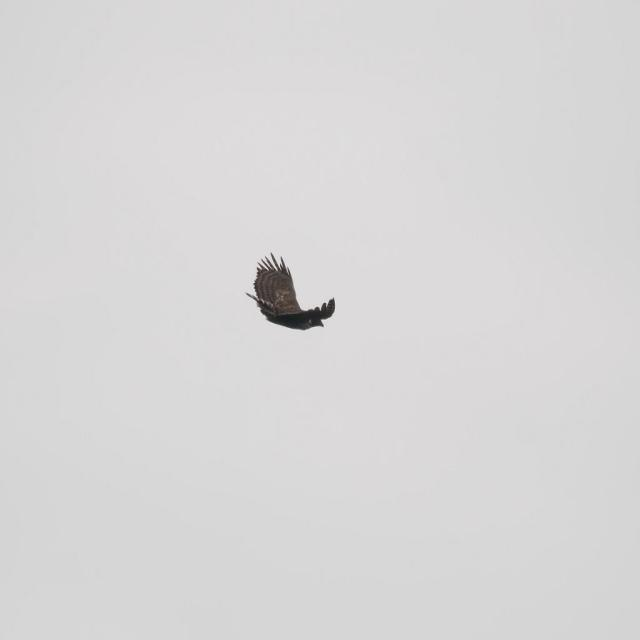bird: (241, 245, 339, 339)
